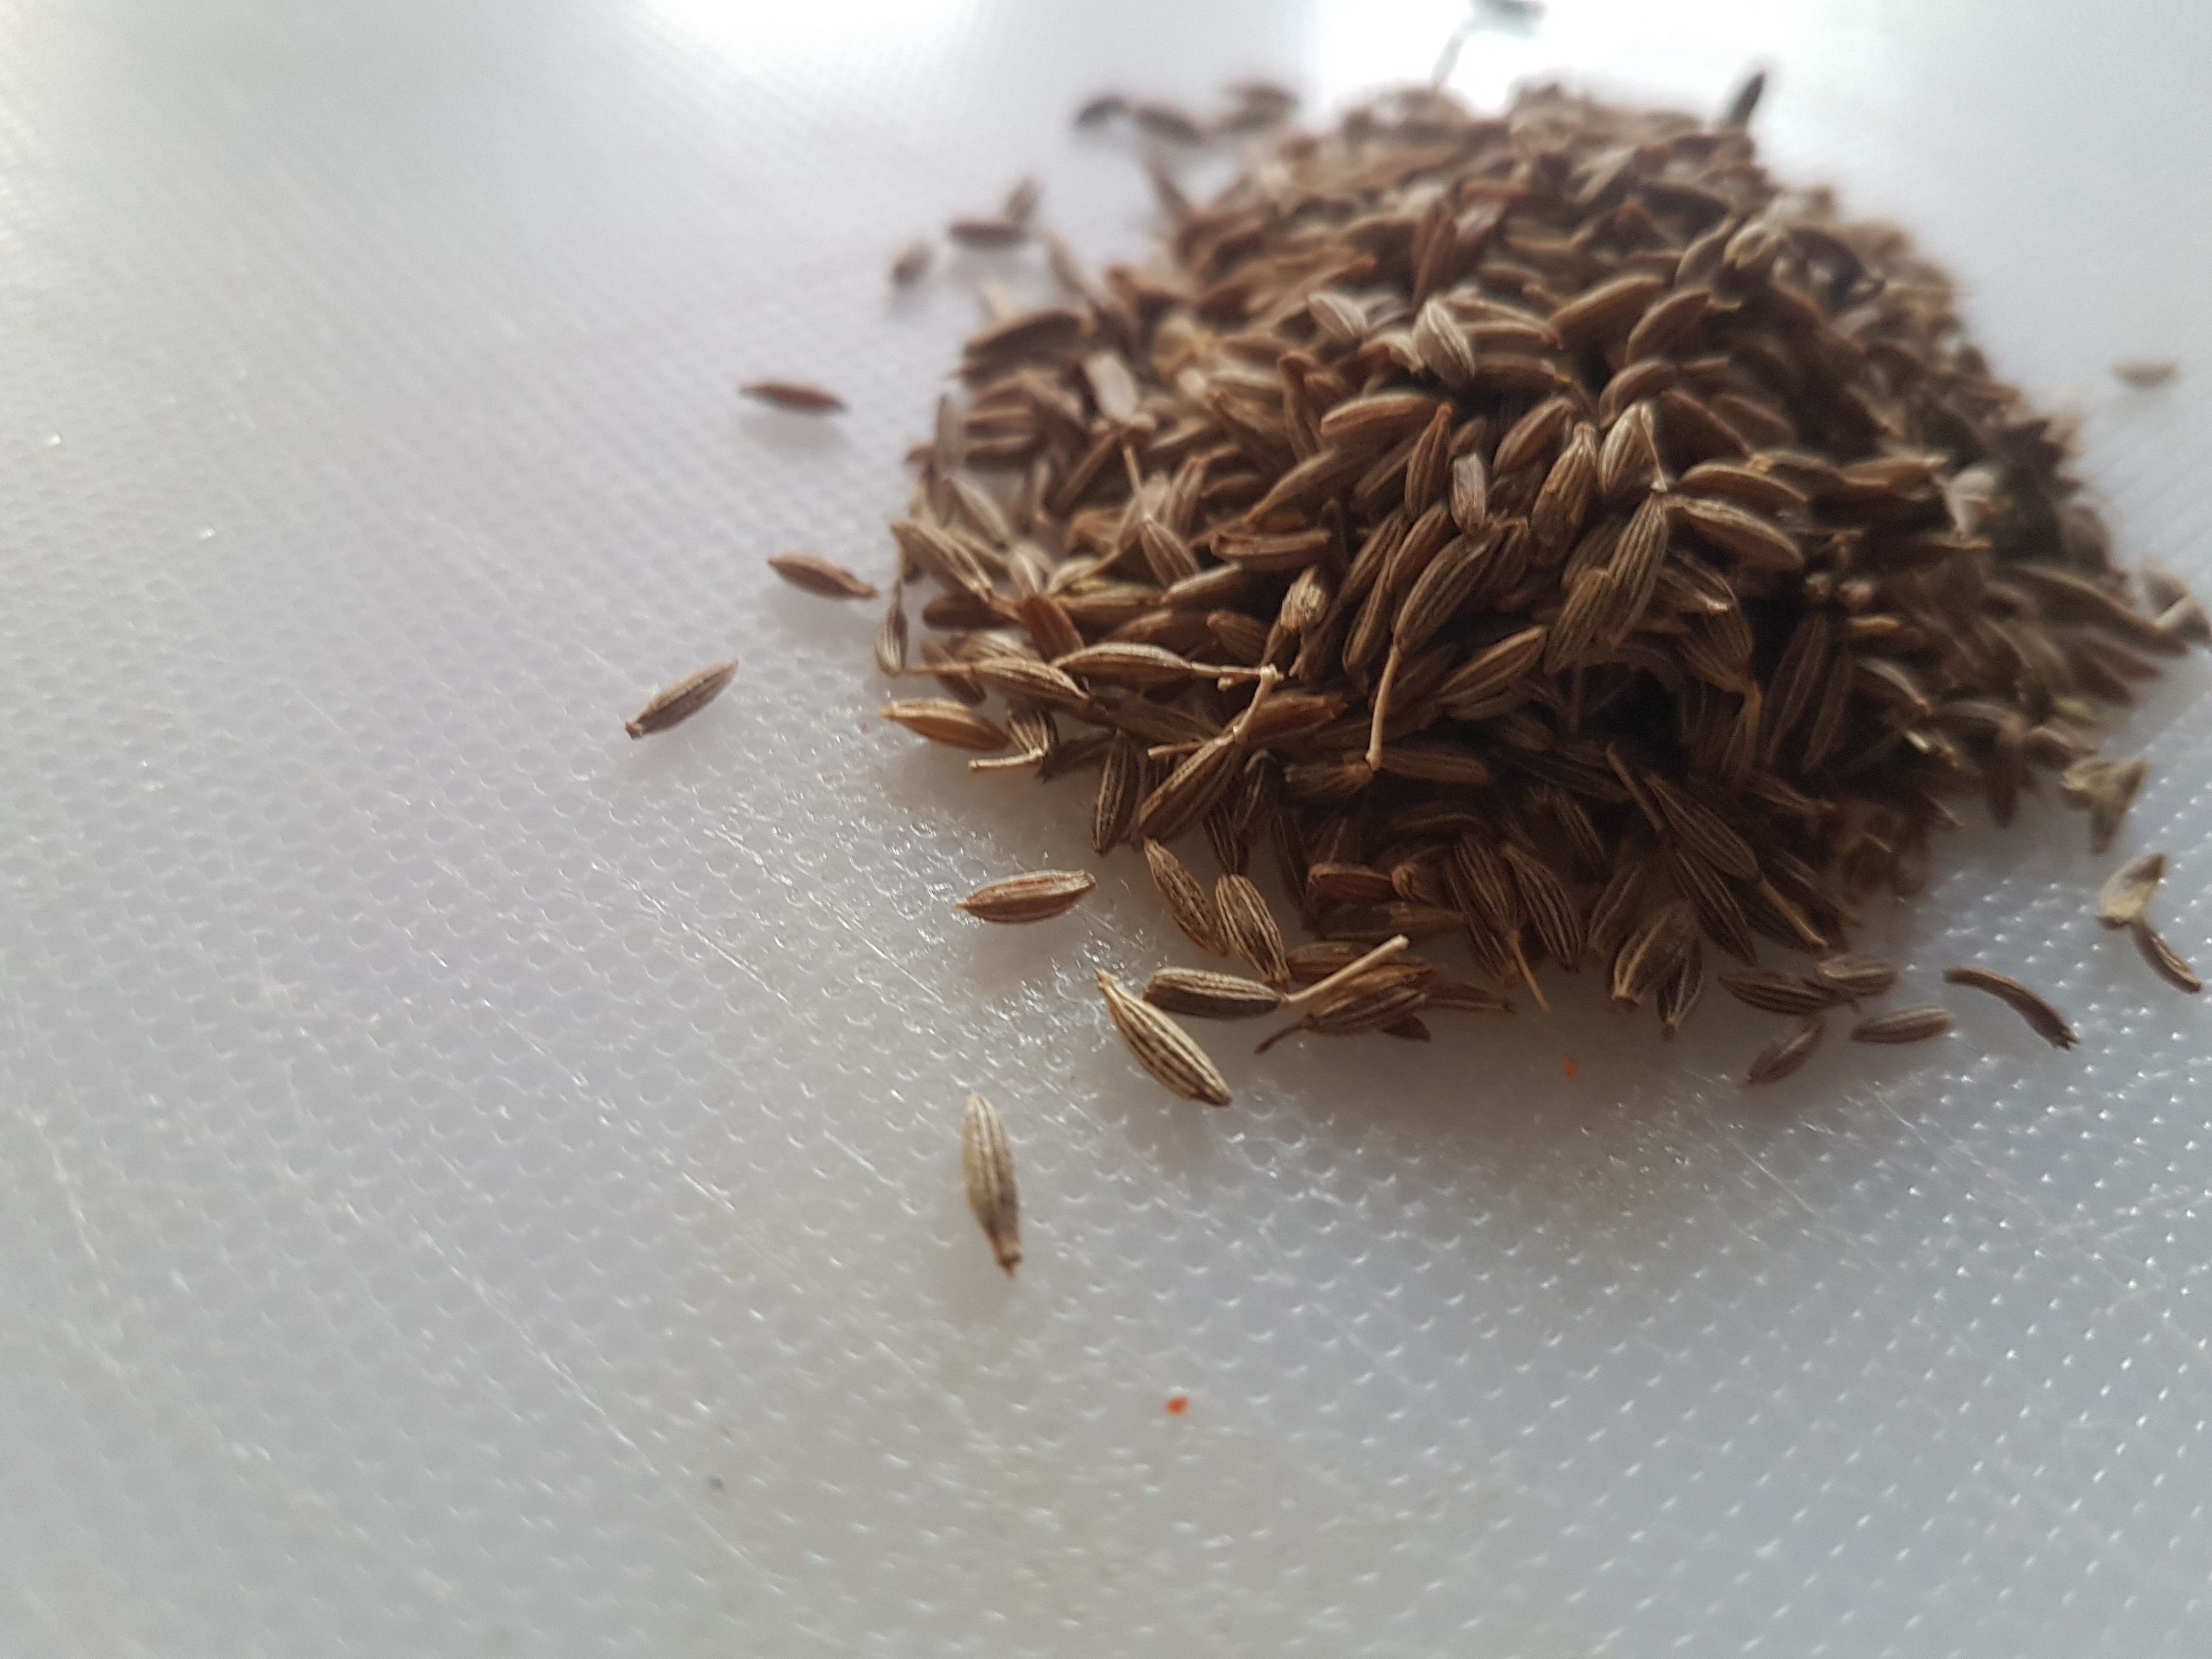Cumin (Zeera): (434, 45, 2212, 1337)
